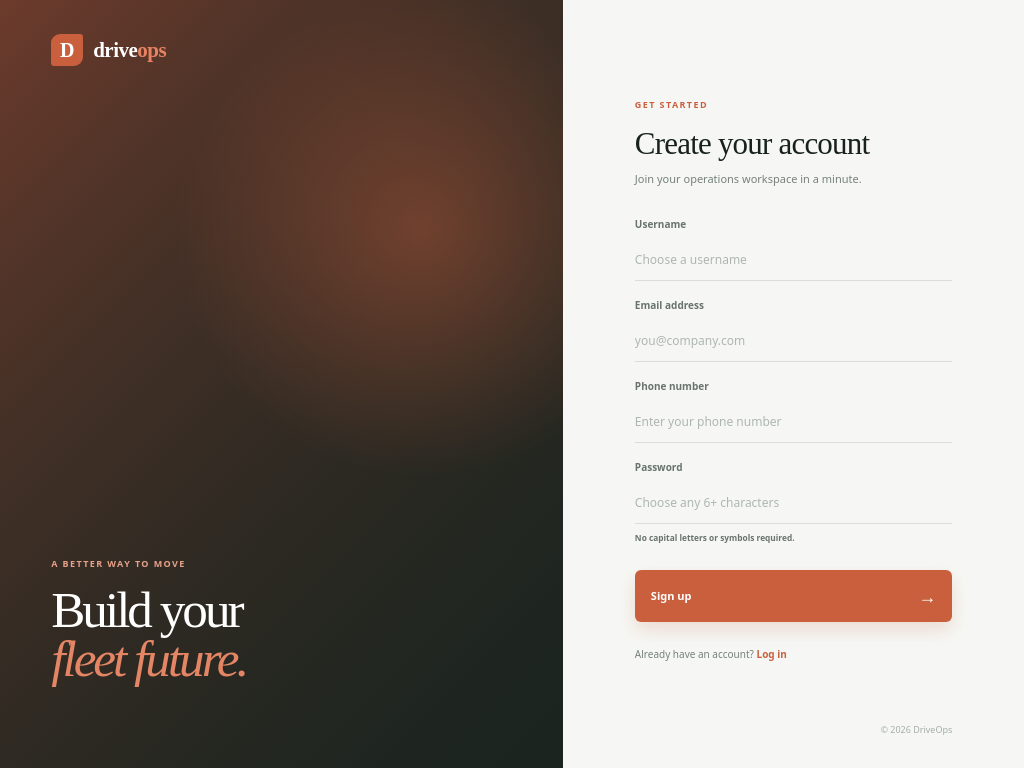
Test: registers with the Spring auth endpoint and accepts its JSON response
Step 1. Type "new-driver" into the field labelled "Username" → (794, 260), box [635, 238, 952, 280]
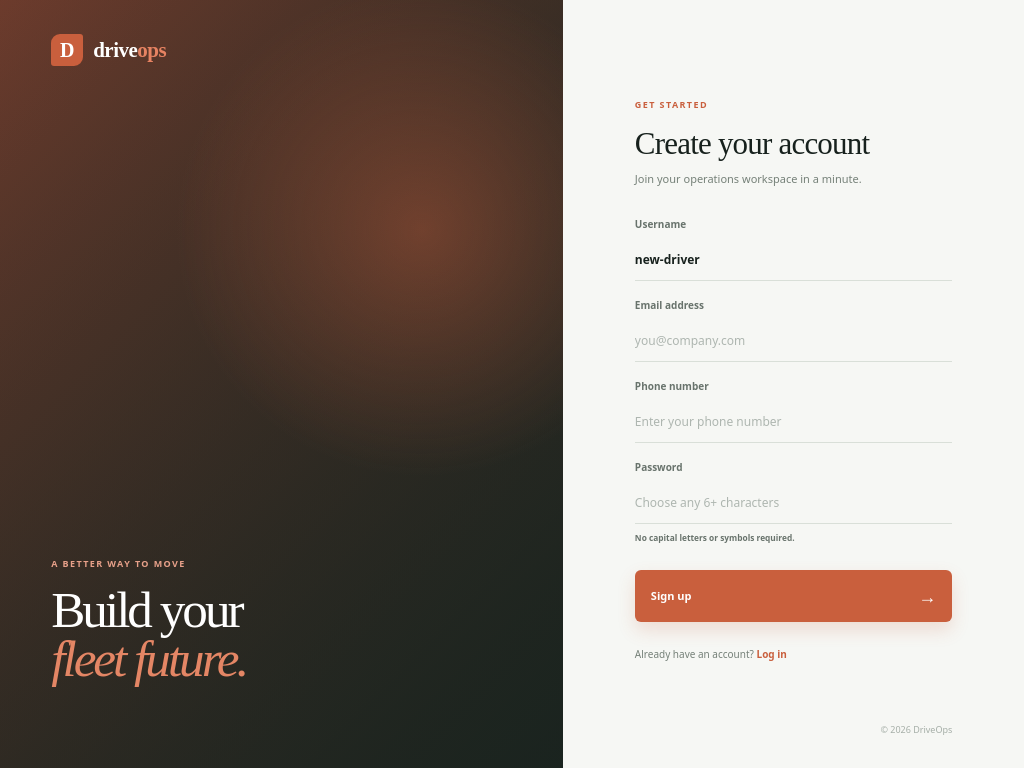
Step 2. Type "driver@example.com" into the field labelled "Email address" → (794, 340), box [635, 320, 952, 362]
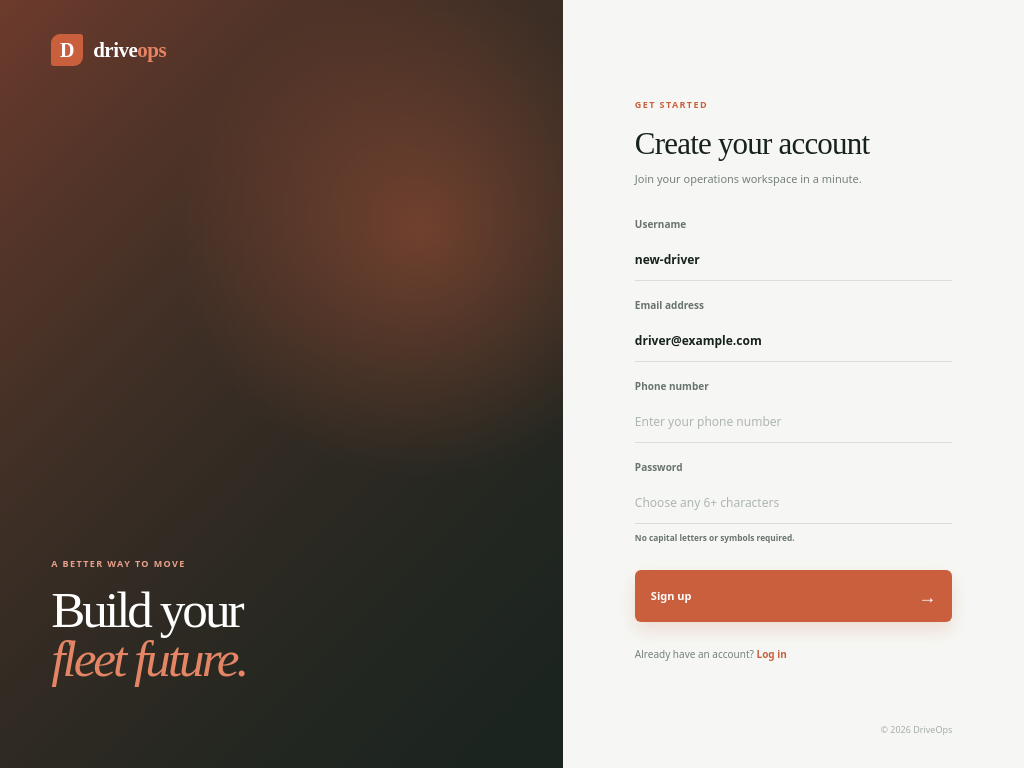
Step 3. Type "+91 98765 43210" into the field labelled "Phone number" → (794, 422), box [635, 400, 952, 442]
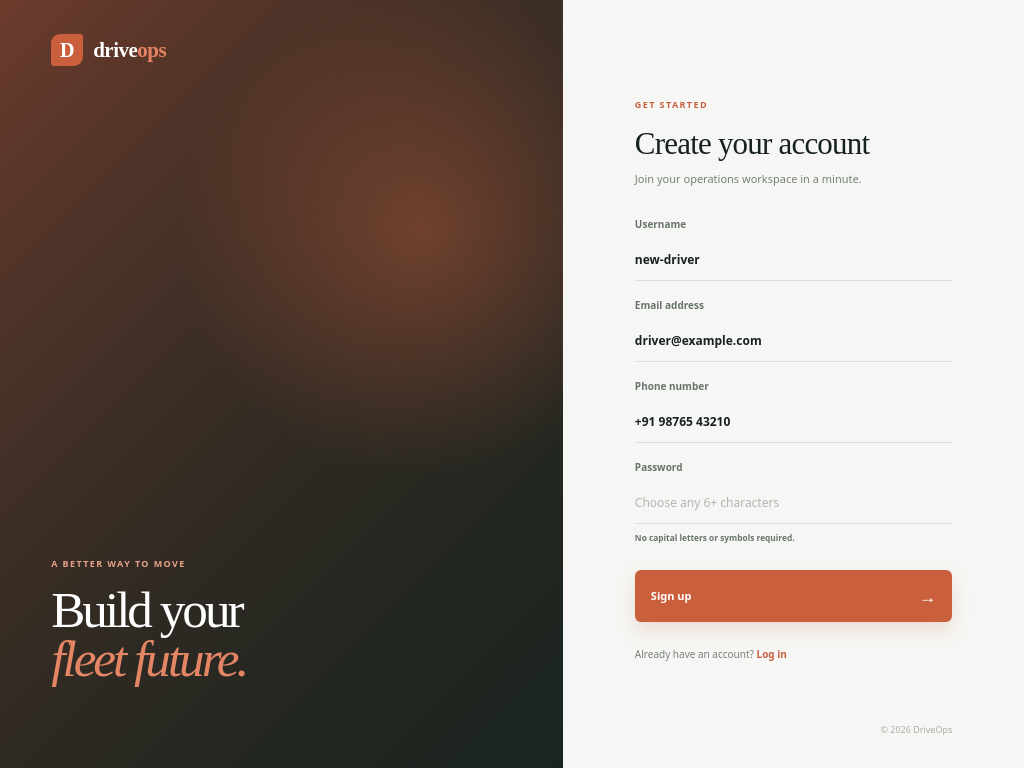
Step 4. Type "secret123" into the password field labelled "Password No capital letters or symbols required." → (794, 502), box [635, 482, 952, 524]
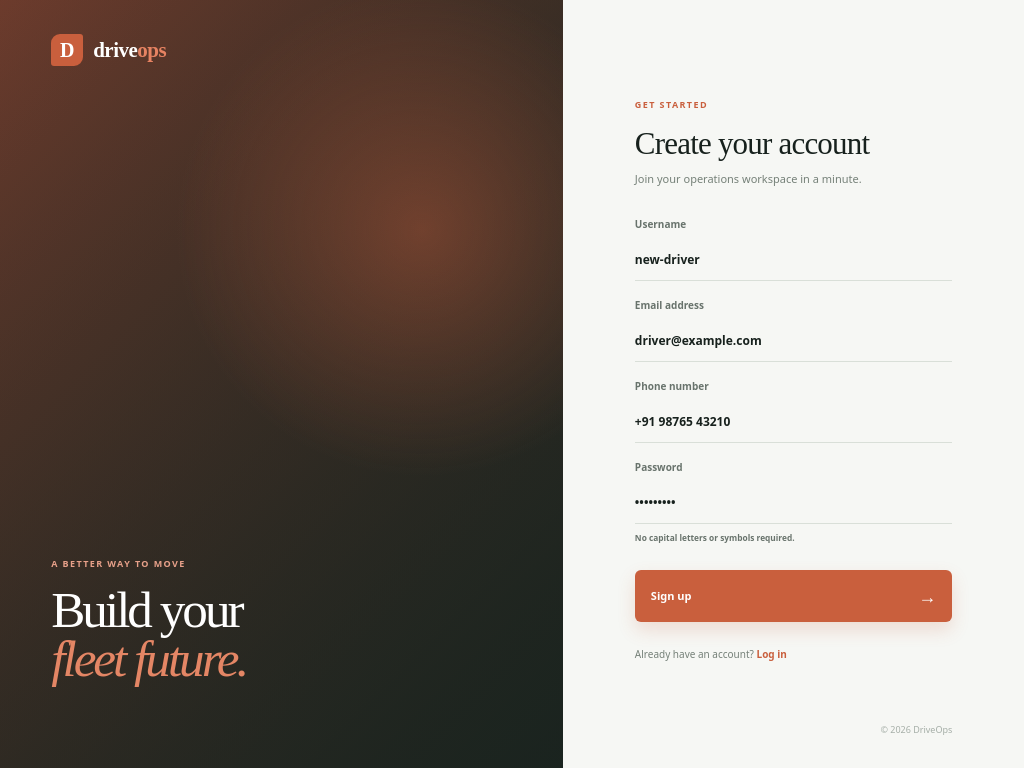
Step 5. Click the button "Sign up →" → (671, 596), box [635, 570, 952, 622]
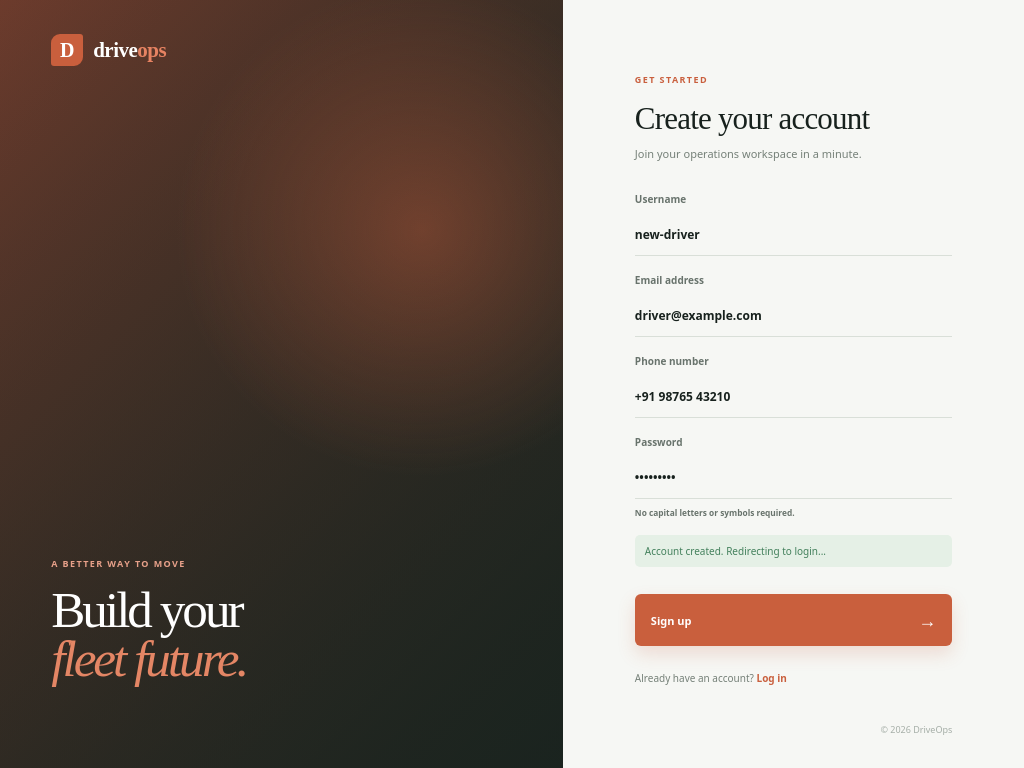
Expected: the text "Account created. Redirecting to login..." is shown, [635, 535, 952, 567]
